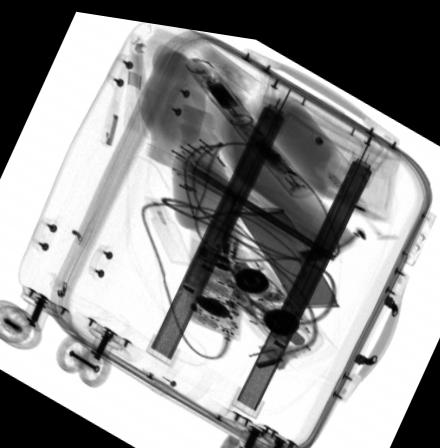Baton: (183, 52, 316, 189)
